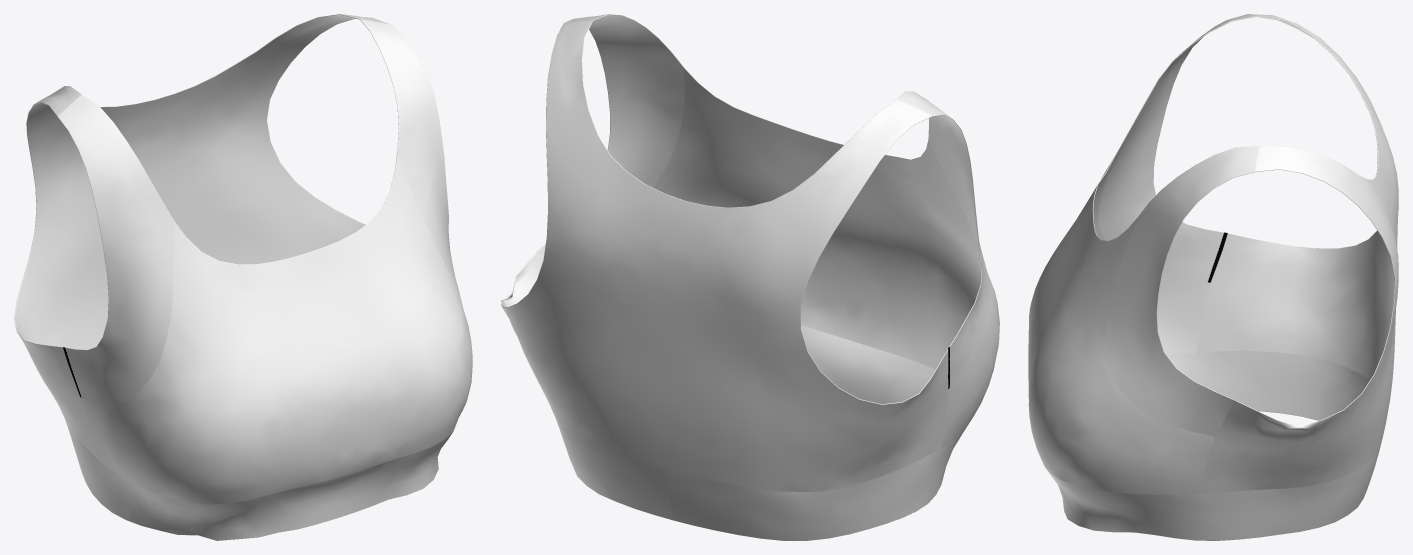
The model's file is top.glb.
3 renders of one model, left to right at view 1: azimuth 30°, elevation 25°; view 2: azimuth 150°, elevation 25°; view 3: azimuth 270°, elevation 25°, orthographic. The views are drawn at different scales.
Parts seen in each view (by area): view 1: top; view 2: top; view 3: top.
Boxes of the visible parts, <box> form: top: <box>14,14,472,540</box>; top: <box>501,14,999,540</box>; top: <box>1028,14,1398,540</box>.
Size of the model in its own units: 3.04 by 3.07 by 2.57.
1 material, 1 textured.
